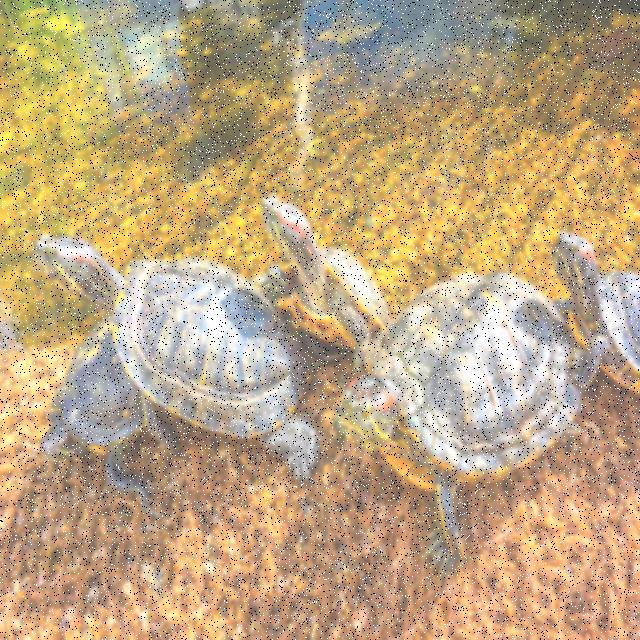tortoise: (31, 232, 306, 496), (344, 286, 578, 534), (260, 197, 382, 356), (556, 230, 640, 396)
